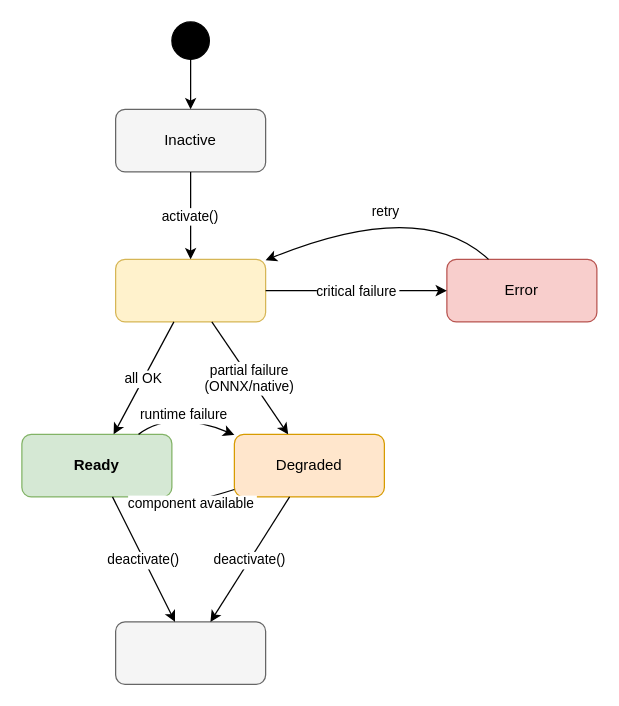
Image size: 619x706. Some labels were removed from this diagram. Each missing label, with the centre of its shape:
"Disposed" goes at pixel 190 652.
"Initializing" goes at pixel 190 290.
